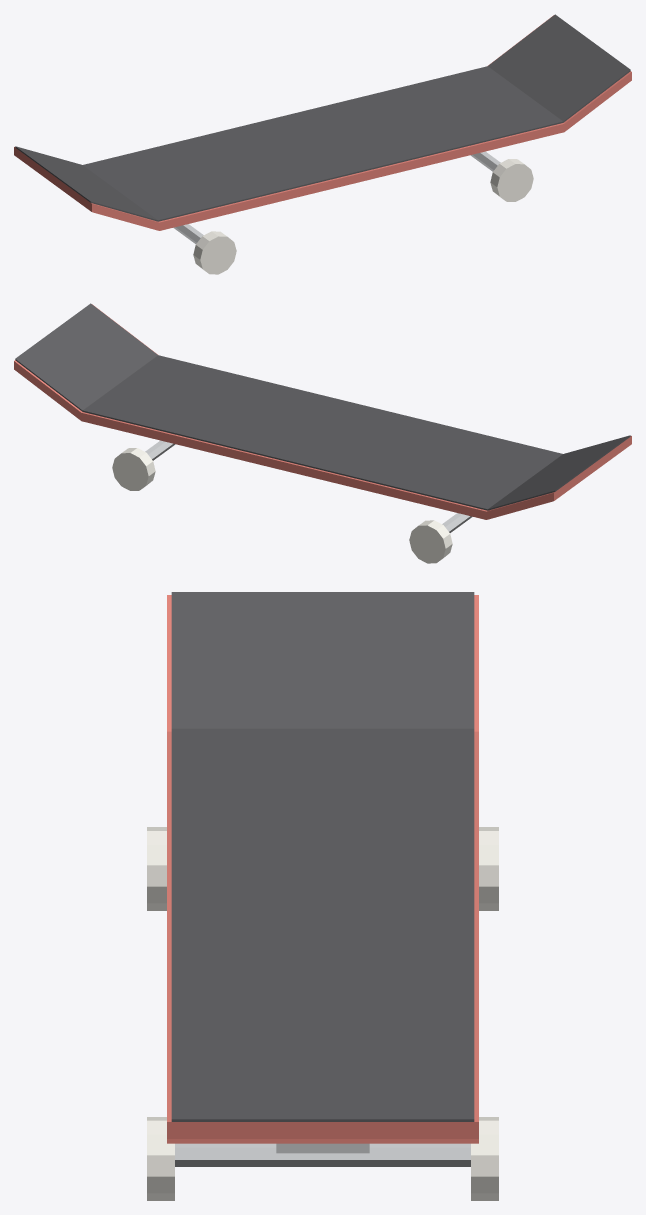
Rendered from skate_r.glb.
3 views of the same model, one above another, from view 1: azimuth 30°, elevation 25°; view 2: azimuth 150°, elevation 25°; view 3: azimuth 270°, elevation 25° (orthographic). The views are drawn at different scales.
Parts seen in each view (by area): view 1: skate_r_grip, skate_r_paint_r, skate_r_wheel_w, skate_r_metal; view 2: skate_r_grip, skate_r_paint_r, skate_r_wheel_w, skate_r_metal; view 3: skate_r_grip, skate_r_paint_r, skate_r_wheel_w, skate_r_metal.
Boxes of the visible parts, x1,y1,x2,y2 form: skate_r_grip: (15,14,630,221); skate_r_paint_r: (14,15,631,230); skate_r_wheel_w: (193,159,533,274); skate_r_metal: (173,151,500,243); skate_r_grip: (15,303,630,510); skate_r_paint_r: (14,304,631,519); skate_r_wheel_w: (112,448,452,563); skate_r_metal: (145,440,472,532); skate_r_grip: (171,592,474,1121); skate_r_paint_r: (167,595,478,1143); skate_r_wheel_w: (147,827,498,1200); skate_r_metal: (175,1143,470,1166).
Bounding box in the file's own units: 0.8 × 0.139 × 0.226.
